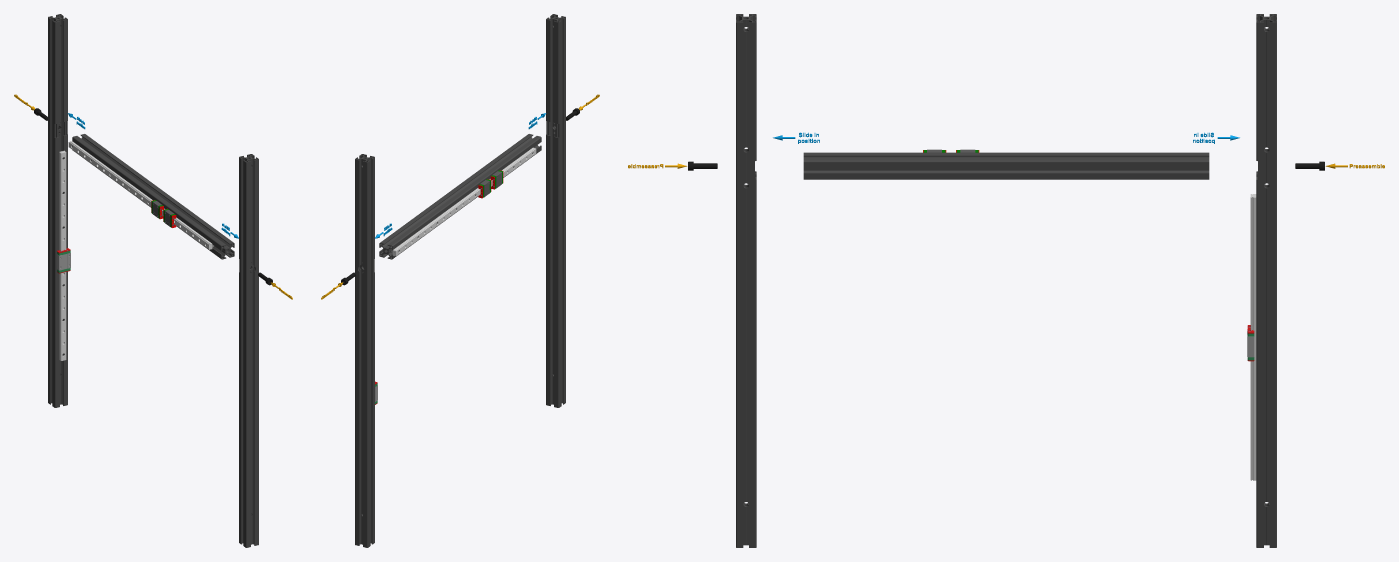
The picture shows the model from 3 angles, left to right: view 1: azimuth 30°, elevation 25°; view 2: azimuth 150°, elevation 25°; view 3: azimuth 270°, elevation 25°; orthographic projection. The views are drawn at different scales.
Parts seen in each view (by area): view 1: 01_01__XP__Alu_3030_Pillar___V2.0 v24, 01_01__XP__Alu_3030_Pillar___V2.0 v025, 01_02__XP__Alu_3030_Beam_1___V1.0 v14, MGNR12R450HM_FILE_2 v1, MGNR12R550HM_FILE_2 v3; view 2: 01_01__XP__Alu_3030_Pillar___V2.0 v24, 01_01__XP__Alu_3030_Pillar___V2.0 v025, 01_02__XP__Alu_3030_Beam_1___V1.0 v14, MGNR12R550HM_FILE_2 v3; view 3: 01_02__XP__Alu_3030_Beam_1___V1.0 v14, 01_01__XP__Alu_3030_Pillar___V2.0 v24, 01_01__XP__Alu_3030_Pillar___V2.0 v025, MGNR12R450HM_FILE_2 v1.
Part boxes in pixels (box(x1,y1,x2,y2)): 01_01__XP__Alu_3030_Pillar___V2.0 v24: box(239, 154, 258, 547); 01_01__XP__Alu_3030_Pillar___V2.0 v025: box(48, 14, 67, 407); 01_02__XP__Alu_3030_Beam_1___V1.0 v14: box(72, 134, 234, 259); MGNR12R450HM_FILE_2 v1: box(59, 150, 66, 360); MGNR12R550HM_FILE_2 v3: box(68, 141, 212, 249); 01_01__XP__Alu_3030_Pillar___V2.0 v24: box(546, 14, 565, 407); 01_01__XP__Alu_3030_Pillar___V2.0 v025: box(355, 154, 374, 547); 01_02__XP__Alu_3030_Beam_1___V1.0 v14: box(379, 134, 541, 259); MGNR12R550HM_FILE_2 v3: box(392, 147, 536, 256); 01_02__XP__Alu_3030_Beam_1___V1.0 v14: box(803, 152, 1209, 179); 01_01__XP__Alu_3030_Pillar___V2.0 v24: box(736, 14, 756, 547); 01_01__XP__Alu_3030_Pillar___V2.0 v025: box(1256, 14, 1276, 547); MGNR12R450HM_FILE_2 v1: box(1250, 194, 1256, 480).
Size of the model in its own units: 0.043 by 0.835 by 1.09.
